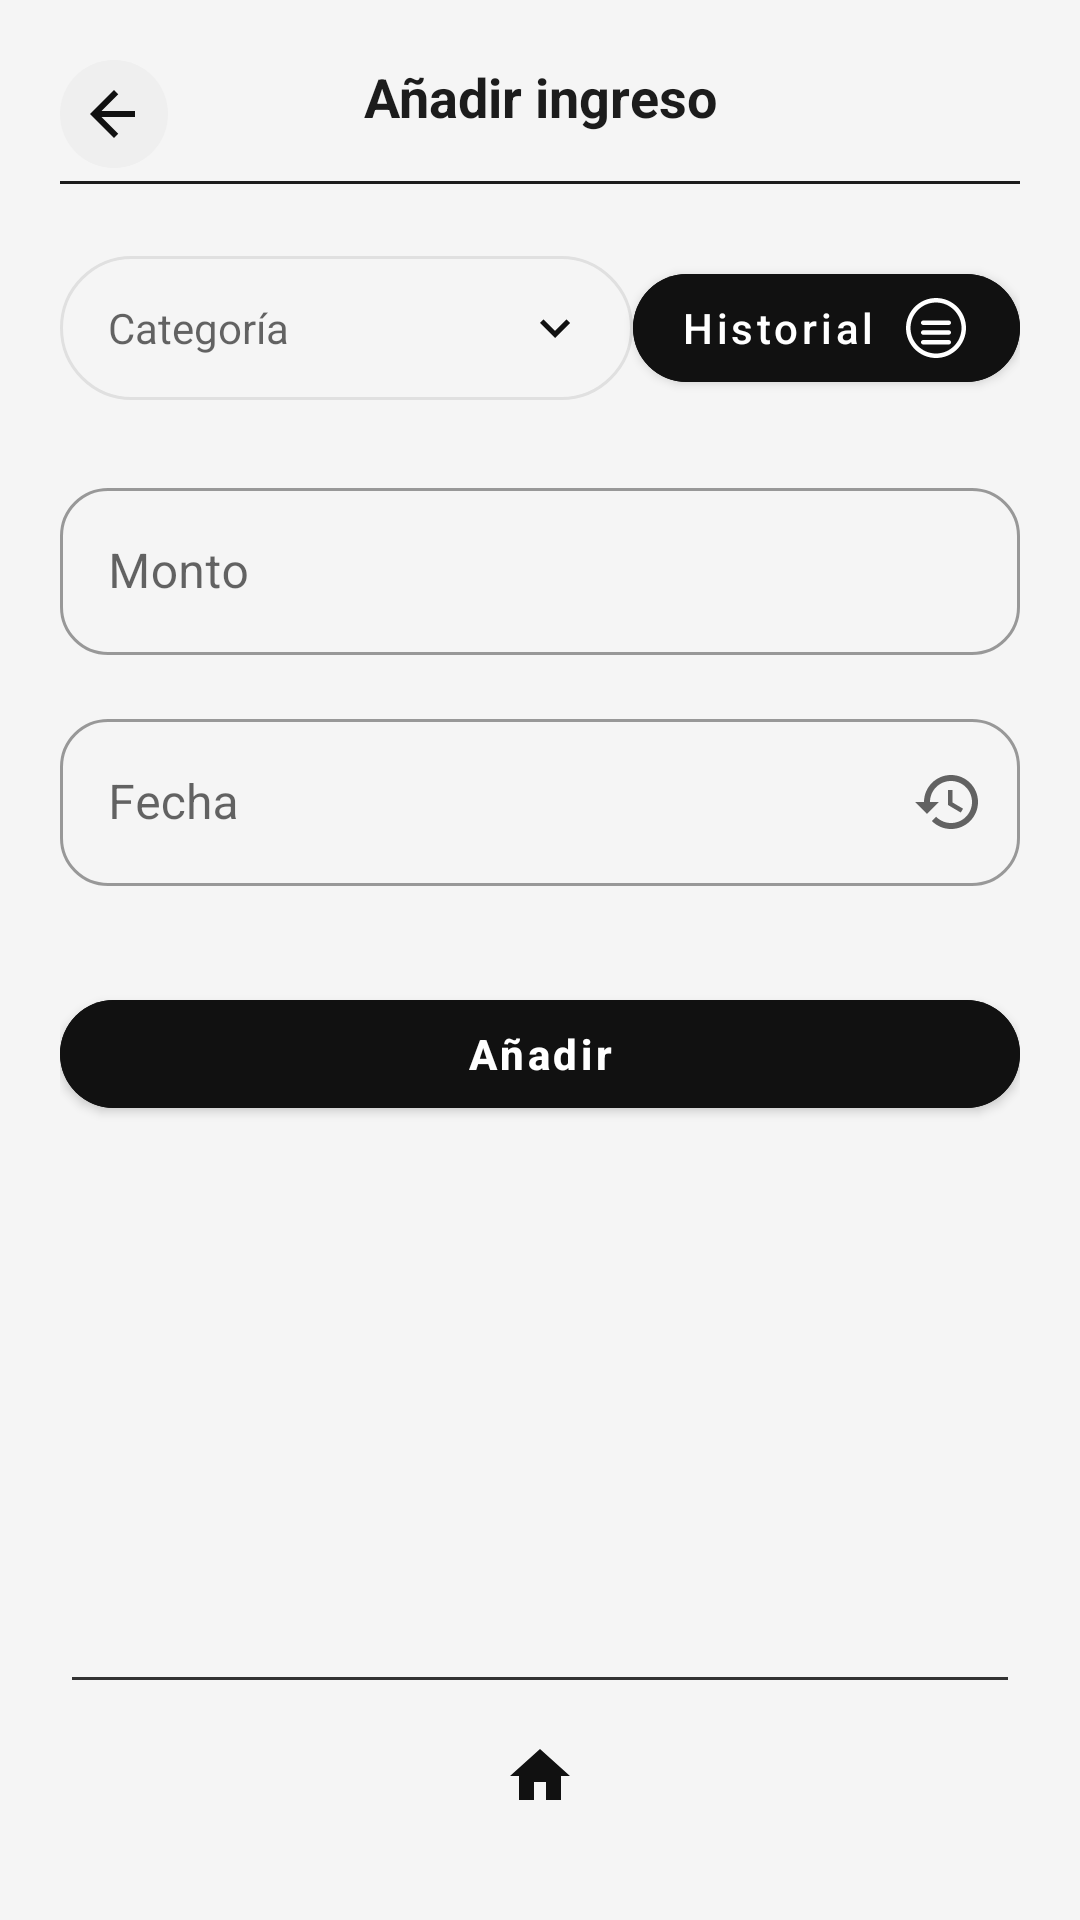

Screen size 1080x1920. Icon name, then its center in pixels as (x=x, y=y):
back: (x=112, y=114)
home: (x=540, y=1774)
